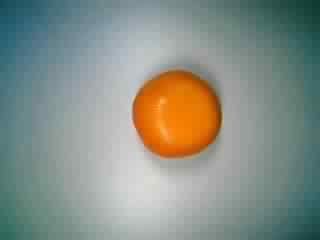orange: (125, 66, 224, 163)
